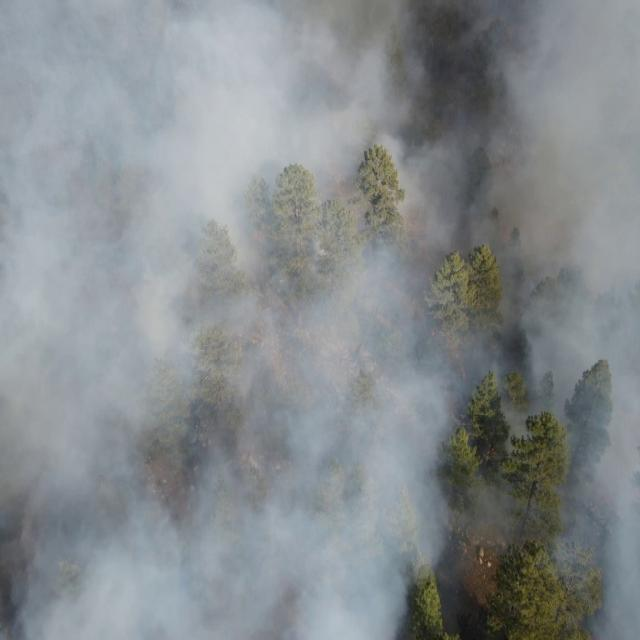smoke: (0, 0, 411, 640), (411, 0, 640, 580), (581, 579, 640, 640)
